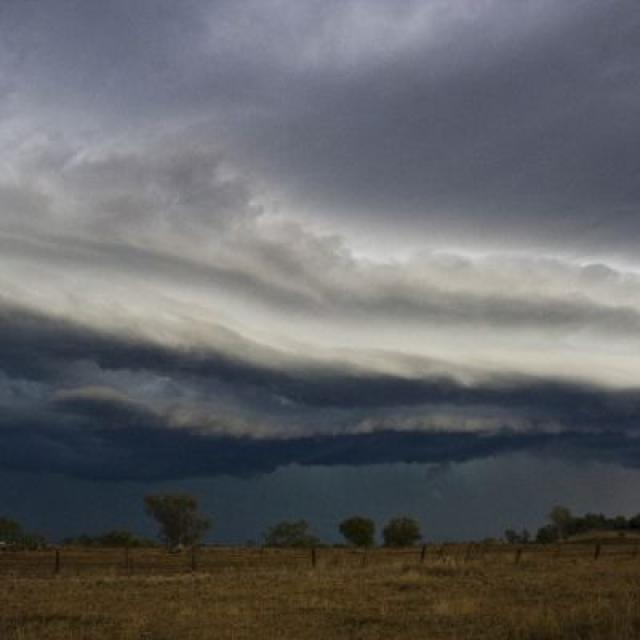Cb: (1, 112, 640, 459)
